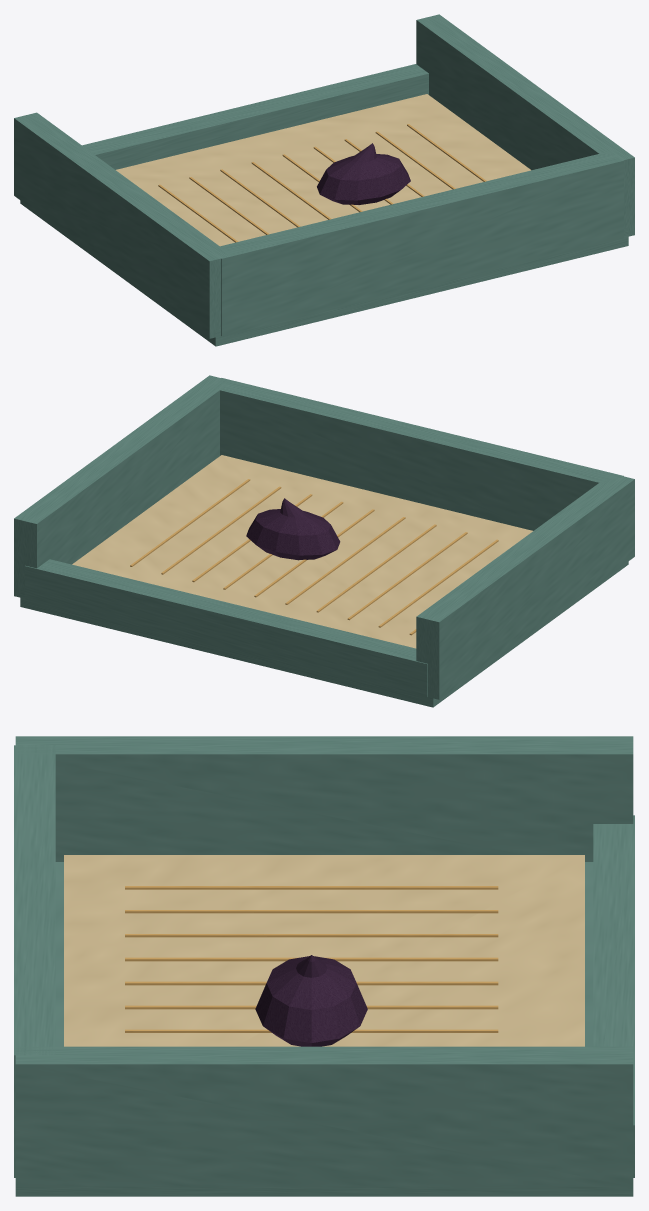
The model's file is yukkuri_toilet_dirty.obj.
3 views of the same model, one above another, from view 1: azimuth 30°, elevation 25°; view 2: azimuth 150°, elevation 25°; view 3: azimuth 270°, elevation 25° (orthographic). The views are drawn at different scales.
Parts seen in each view (by area): view 1: yukkuri_toilet_dirty; view 2: yukkuri_toilet_dirty; view 3: yukkuri_toilet_dirty.
Boxes of the visible parts, x1=… form: yukkuri_toilet_dirty: x1=14, y1=14, x2=634, y2=346; yukkuri_toilet_dirty: x1=14, y1=375, x2=634, y2=707; yukkuri_toilet_dirty: x1=14, y1=736, x2=634, y2=1196.
Size of the model in its own units: 12.05 by 2.35 by 9.65.
1 material, 1 textured.
